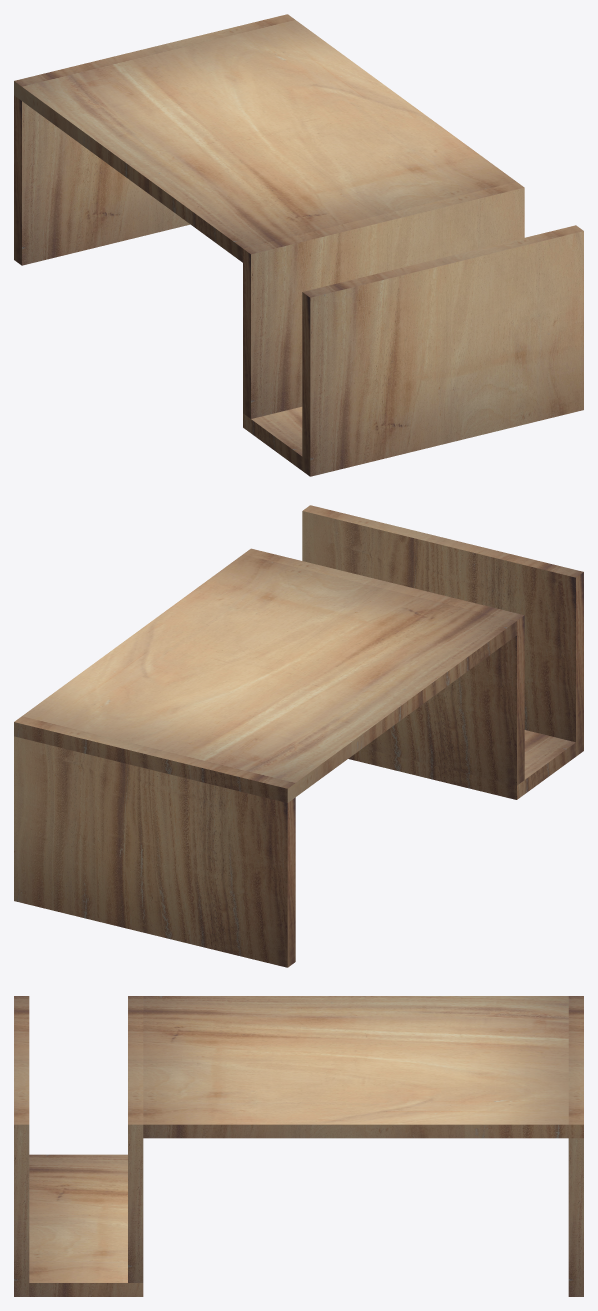
3 renders of one model, top to bottom at view 1: azimuth 30°, elevation 25°; view 2: azimuth 150°, elevation 25°; view 3: azimuth 270°, elevation 25°, orthographic. The views are drawn at different scales.
Size of the model in its own units: 0.8 by 0.5 by 1.5.
Materials: 2 (2 with a texture image).
